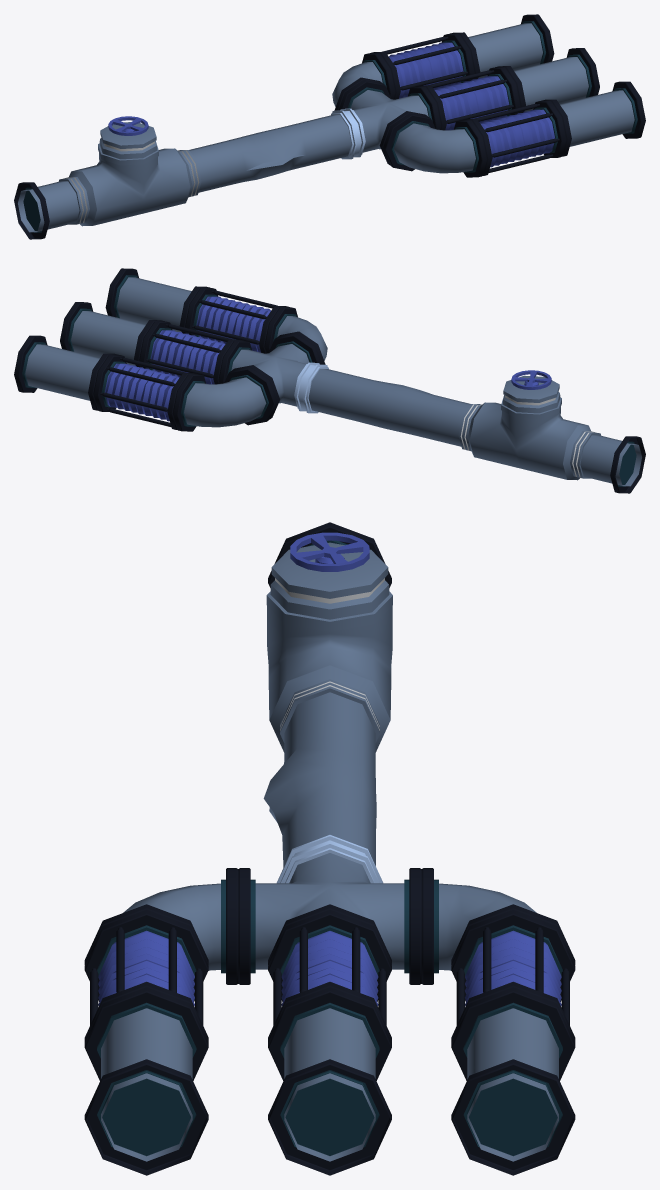
File: PipeComplexSmall_A_12.fbx
3 renders of one model, top to bottom at view 1: azimuth 30°, elevation 25°; view 2: azimuth 150°, elevation 25°; view 3: azimuth 270°, elevation 25°, orthographic. The views are drawn at different scales.
Parts seen in each view (by area): view 1: PipeComplexSmall_A_12.001; view 2: PipeComplexSmall_A_12.001; view 3: PipeComplexSmall_A_12.001.
Part boxes in pixels (bbox=[...]): PipeComplexSmall_A_12.001: bbox=[14, 14, 645, 239]; PipeComplexSmall_A_12.001: bbox=[14, 268, 645, 493]; PipeComplexSmall_A_12.001: bbox=[84, 522, 575, 1175].
Bounding box in the file's own units: 1.4 × 0.2185 × 0.5356.
